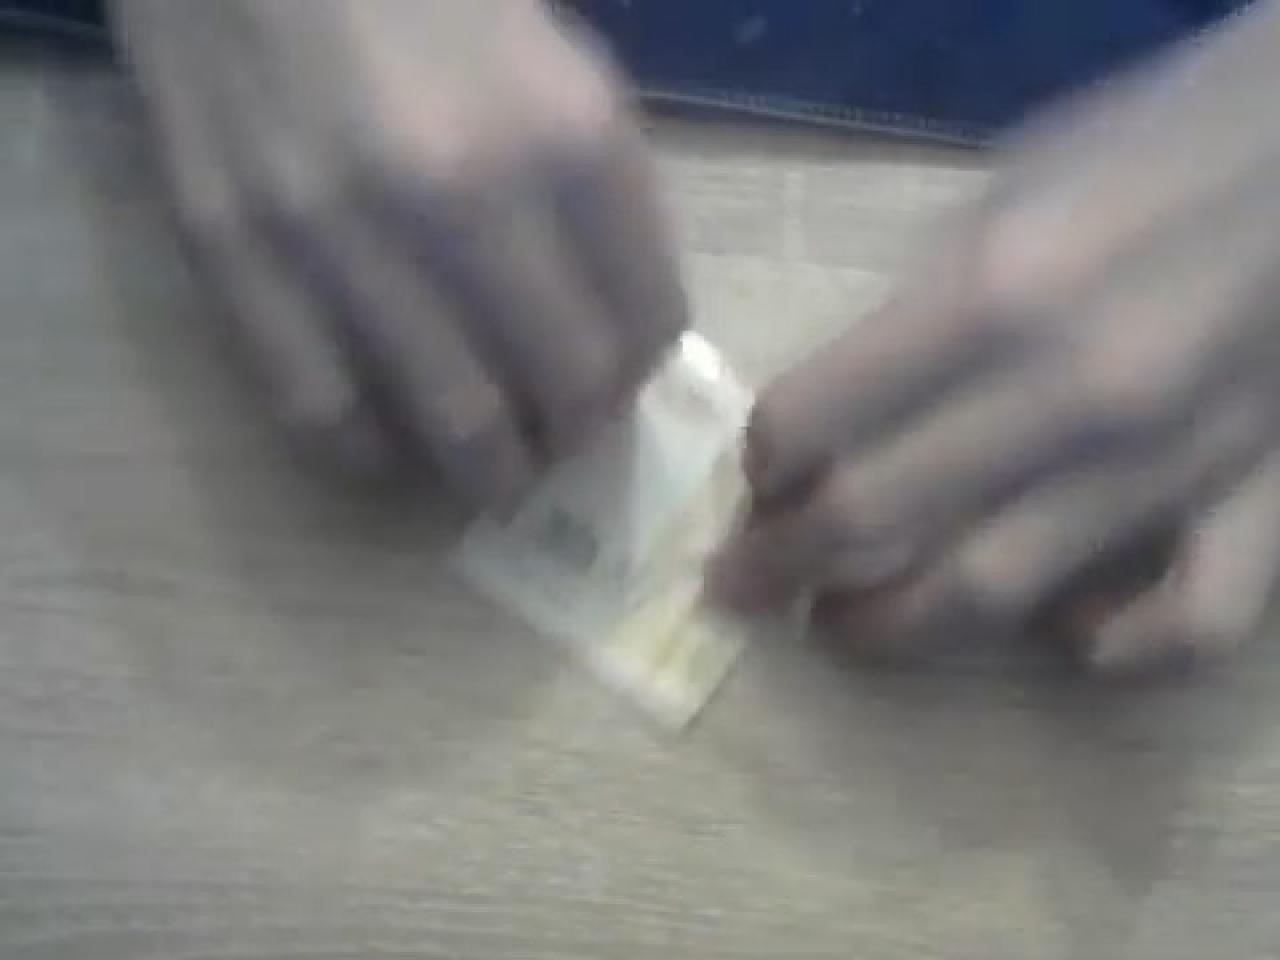10leva: (451, 334, 755, 739)
